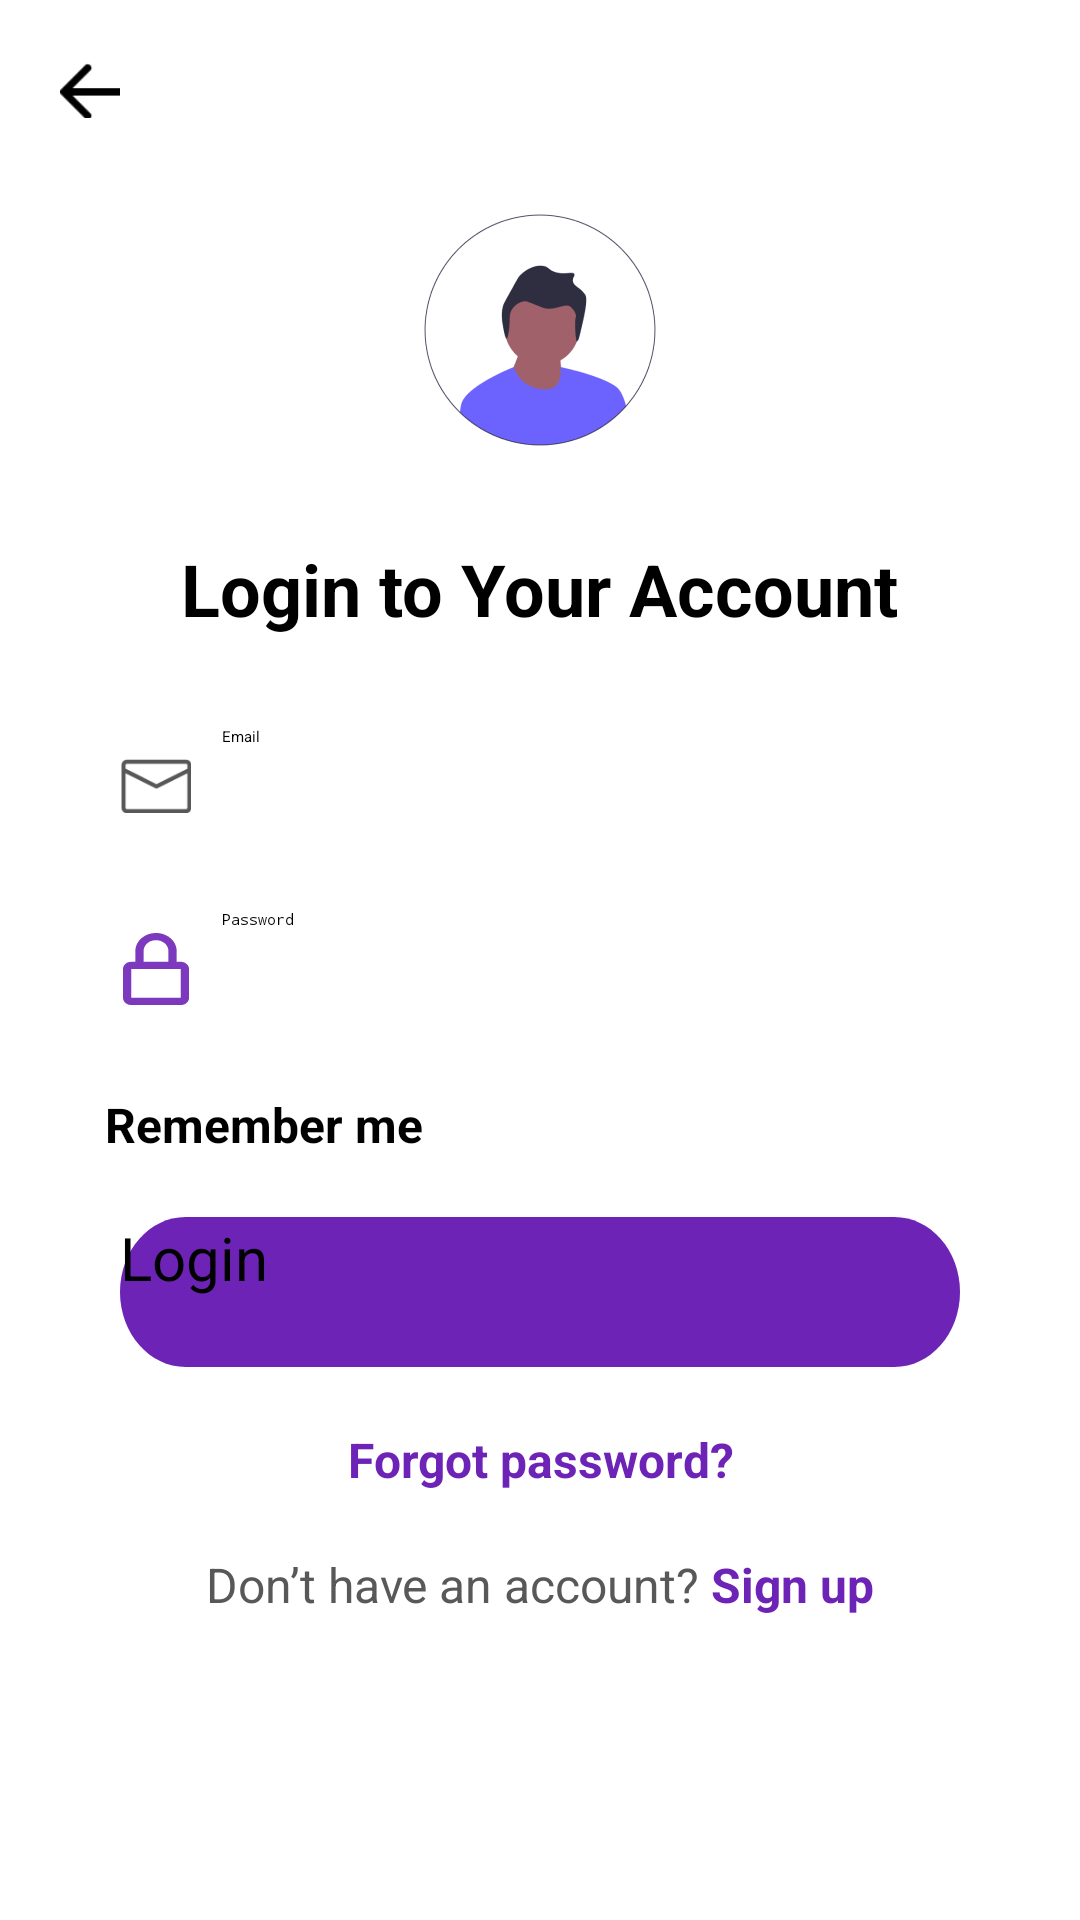

Named icons in this screenshot (1080px x 1920px) and their bounding boxes, box=[x1, y1, x2, y2]:
back arrow: box=[60, 64, 120, 118]
lock: box=[123, 933, 189, 1005]
person: box=[424, 214, 656, 446]
